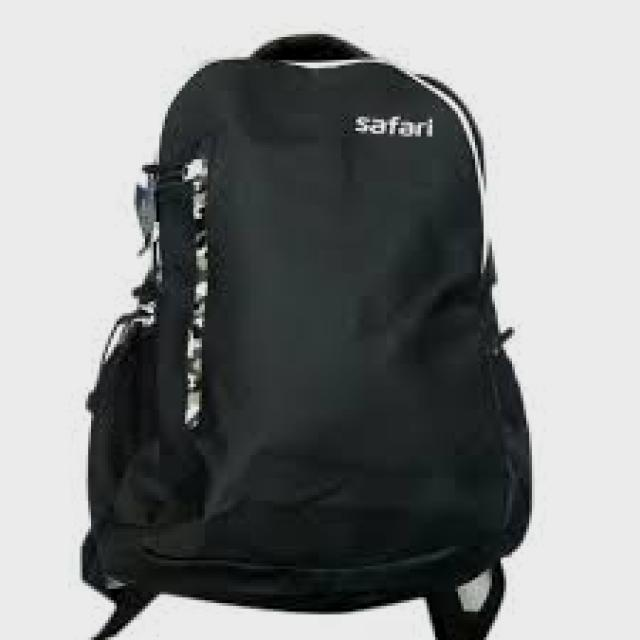backpack: (75, 32, 536, 638)
